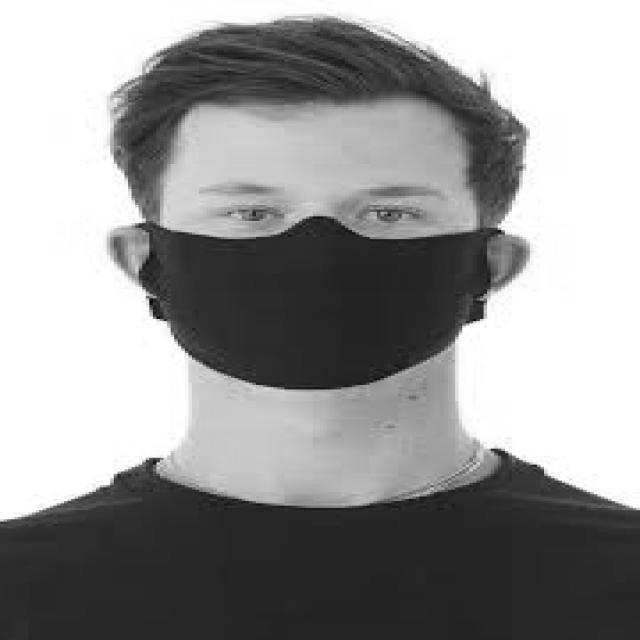fake: (140, 223, 504, 391)
real: (165, 99, 479, 406)
